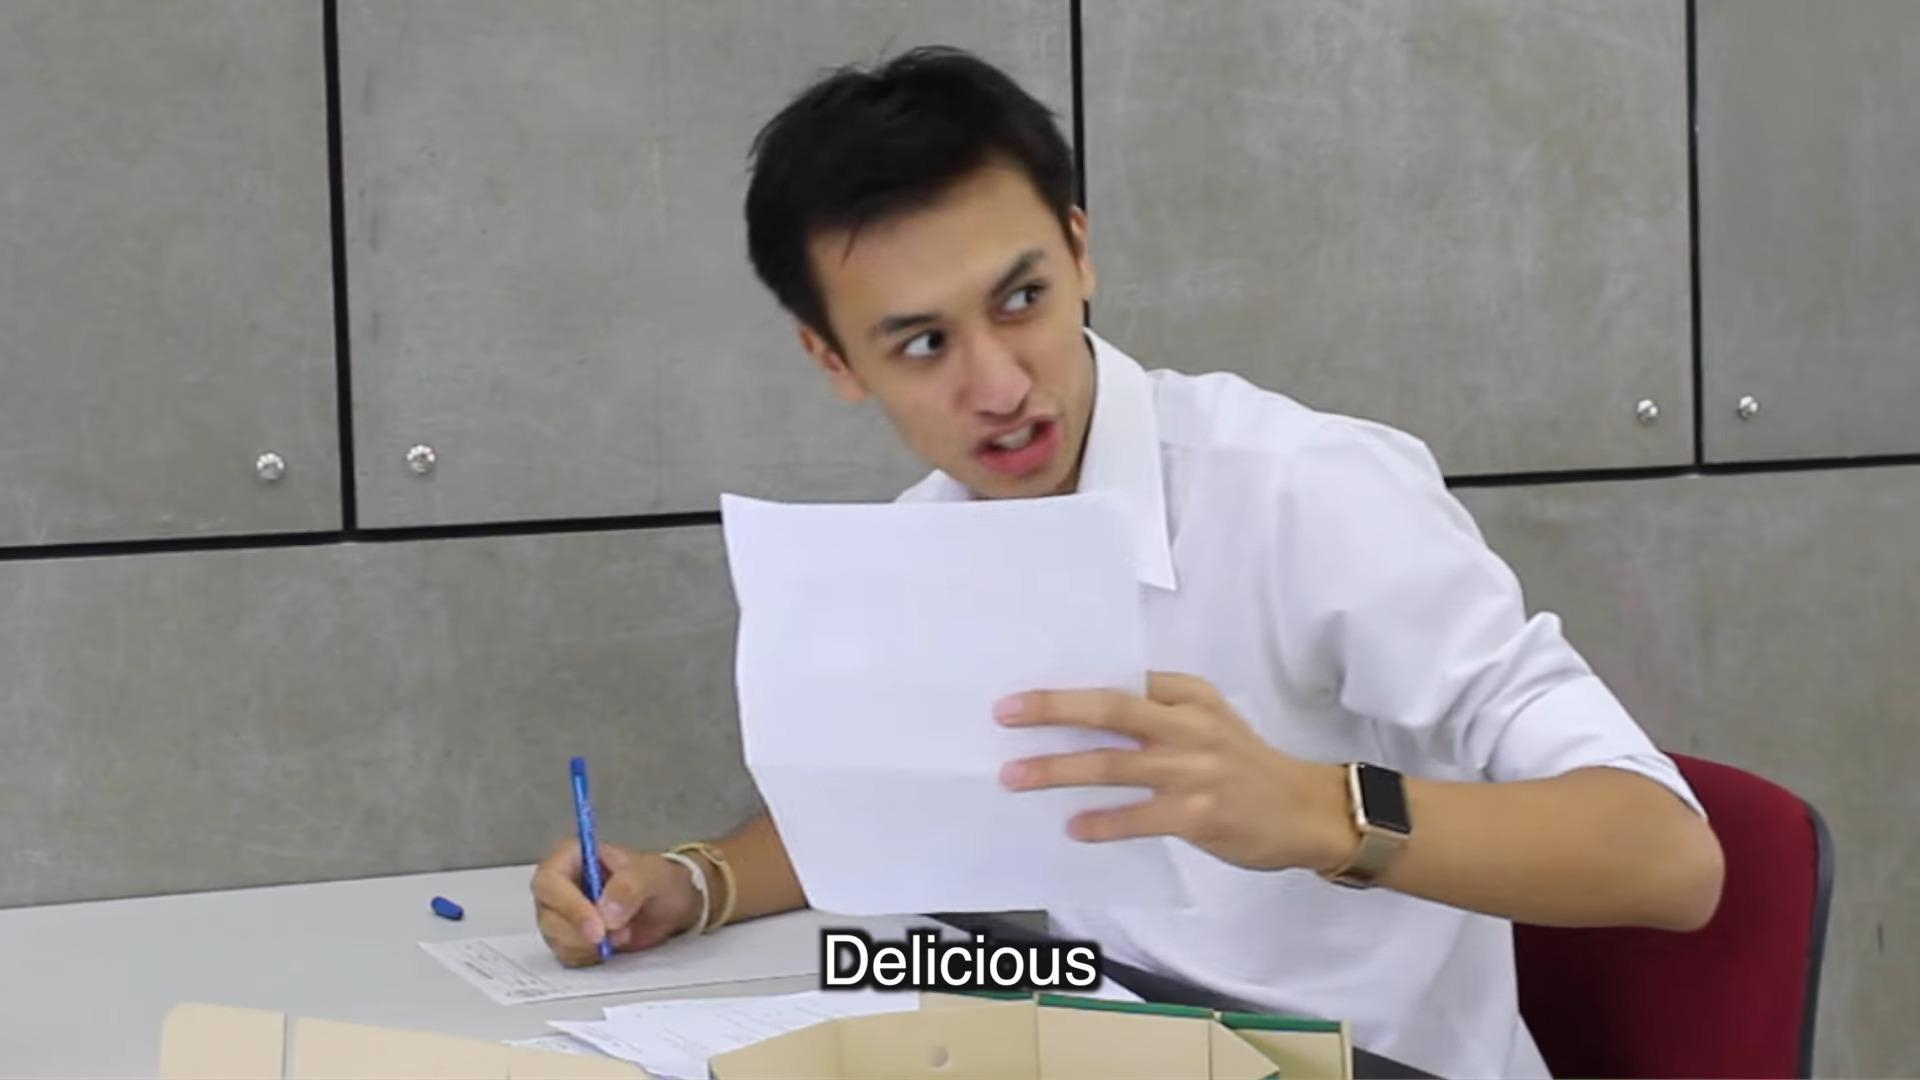cheating: (401, 30, 1746, 938)
